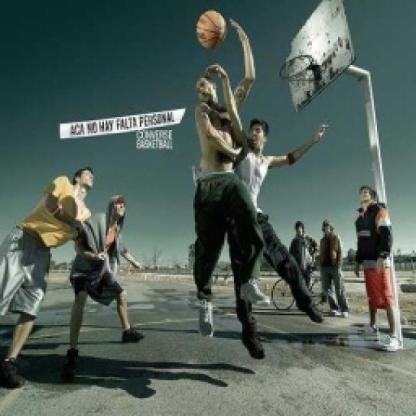basketball: (194, 6, 232, 53)
